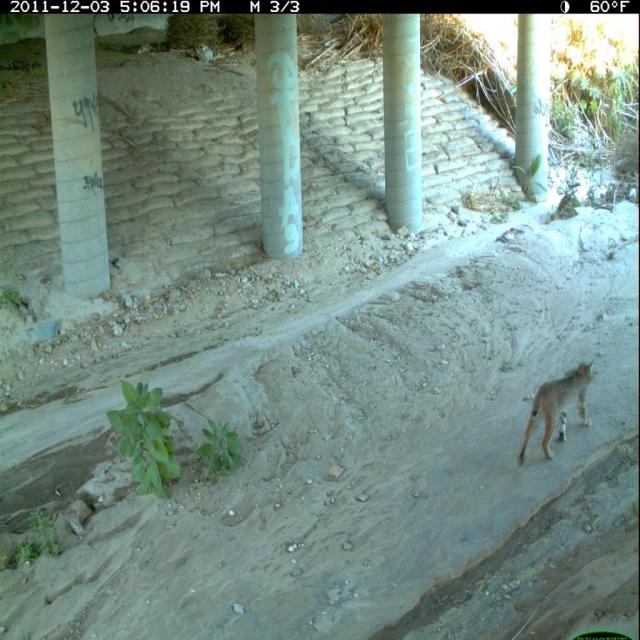bobcat: (514, 354, 600, 472)
